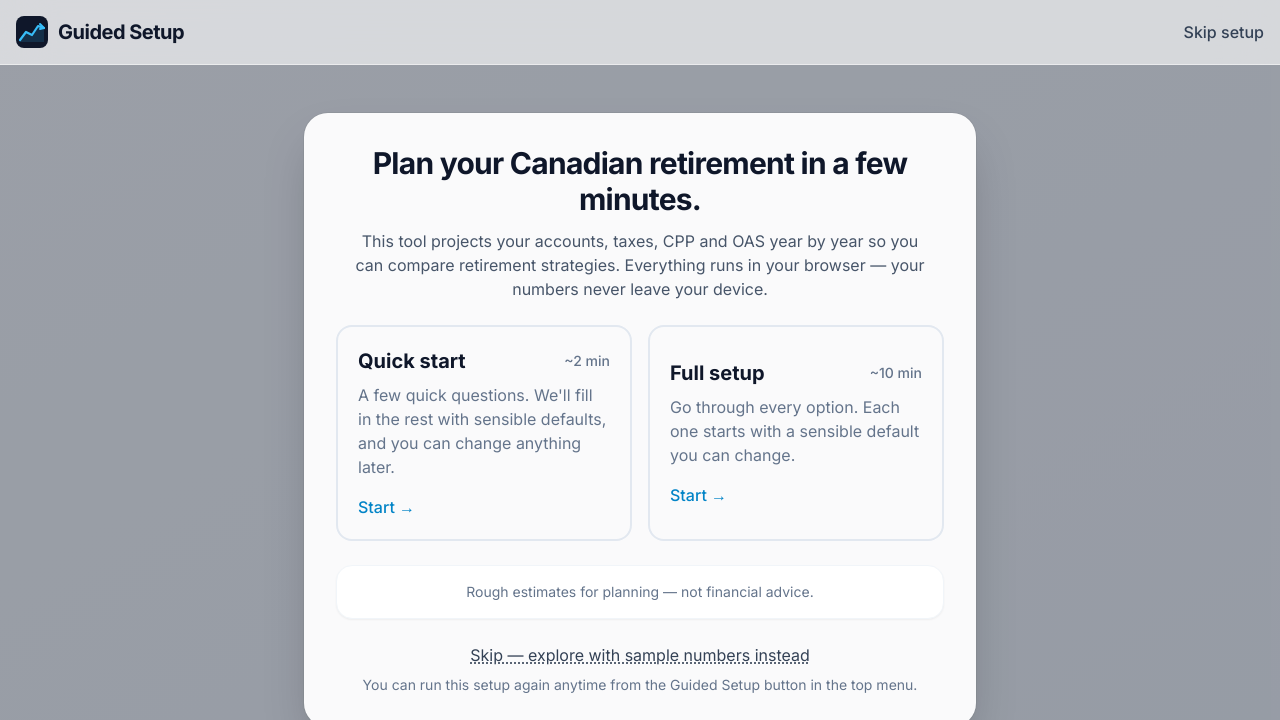
Test: OnboardingFlow › validation gating › detailed path: a broken age blocks Next on the step that owns the field
The image size is (1280, 720).
Click the button "Full setup" at (796, 433), box [648, 325, 944, 541]
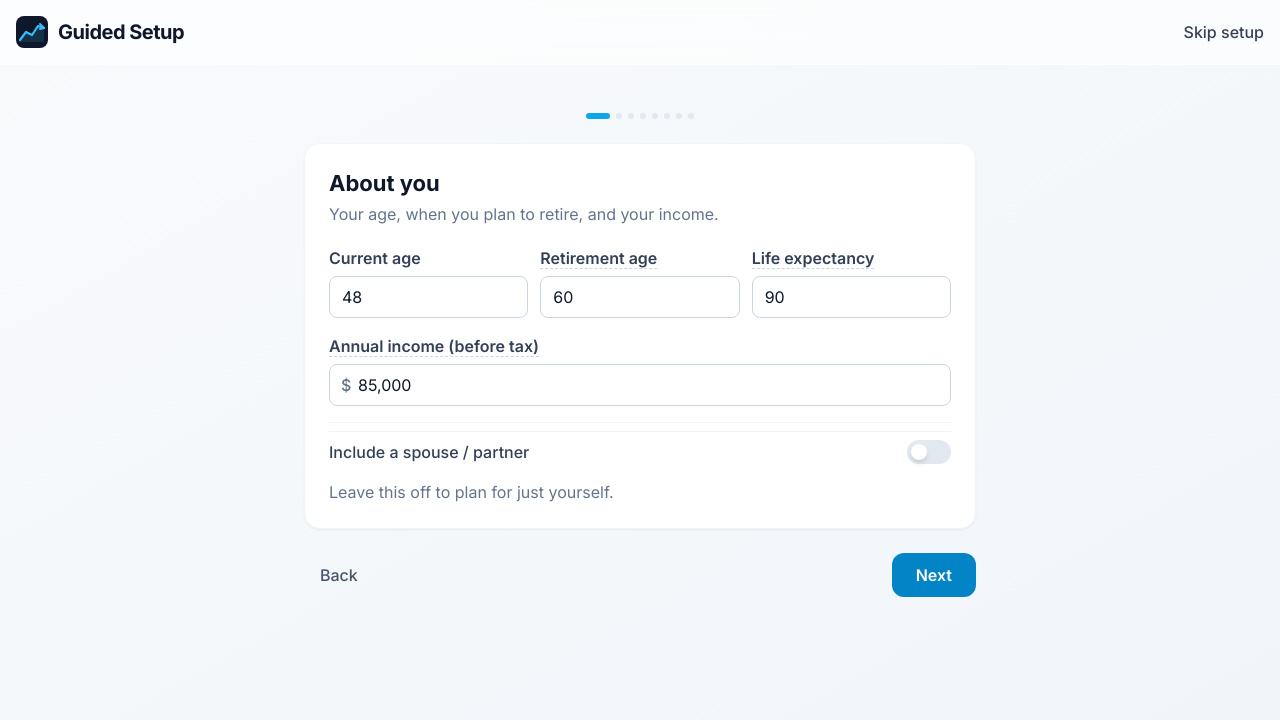
Replace the text in the field below "Life expectancy" with "40" at (851, 297), box [752, 276, 951, 318]
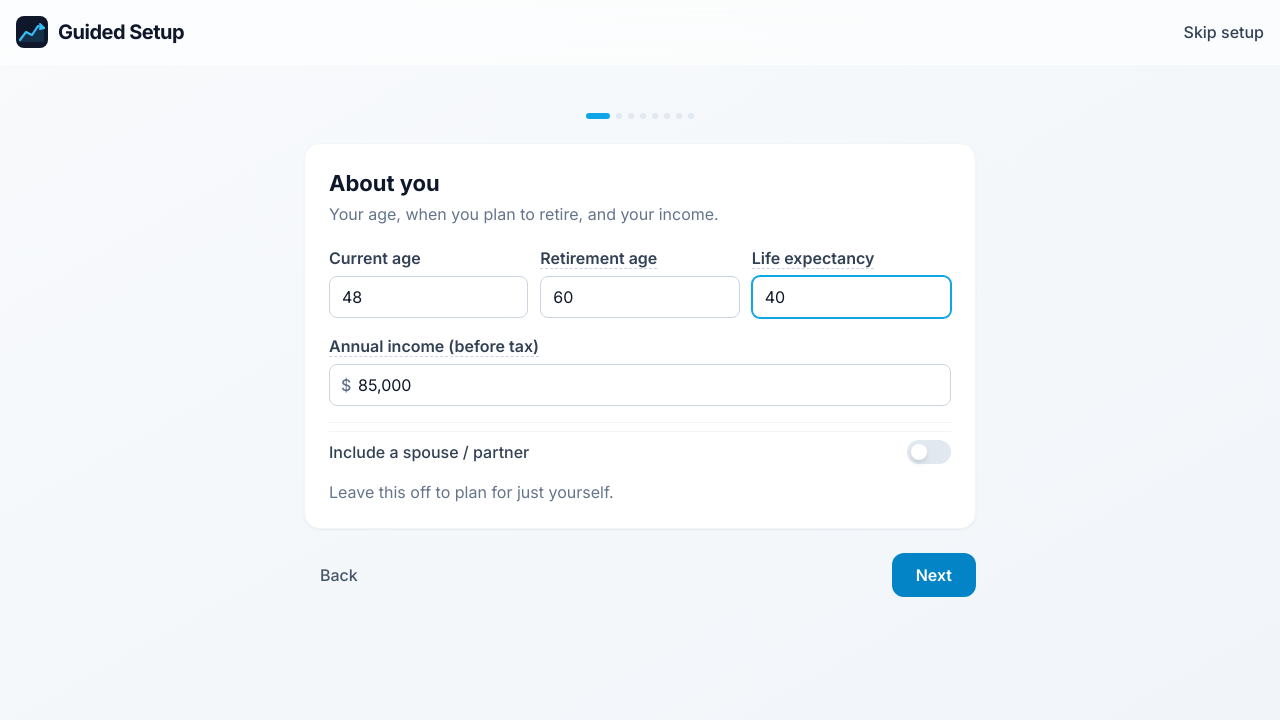
Press Tab
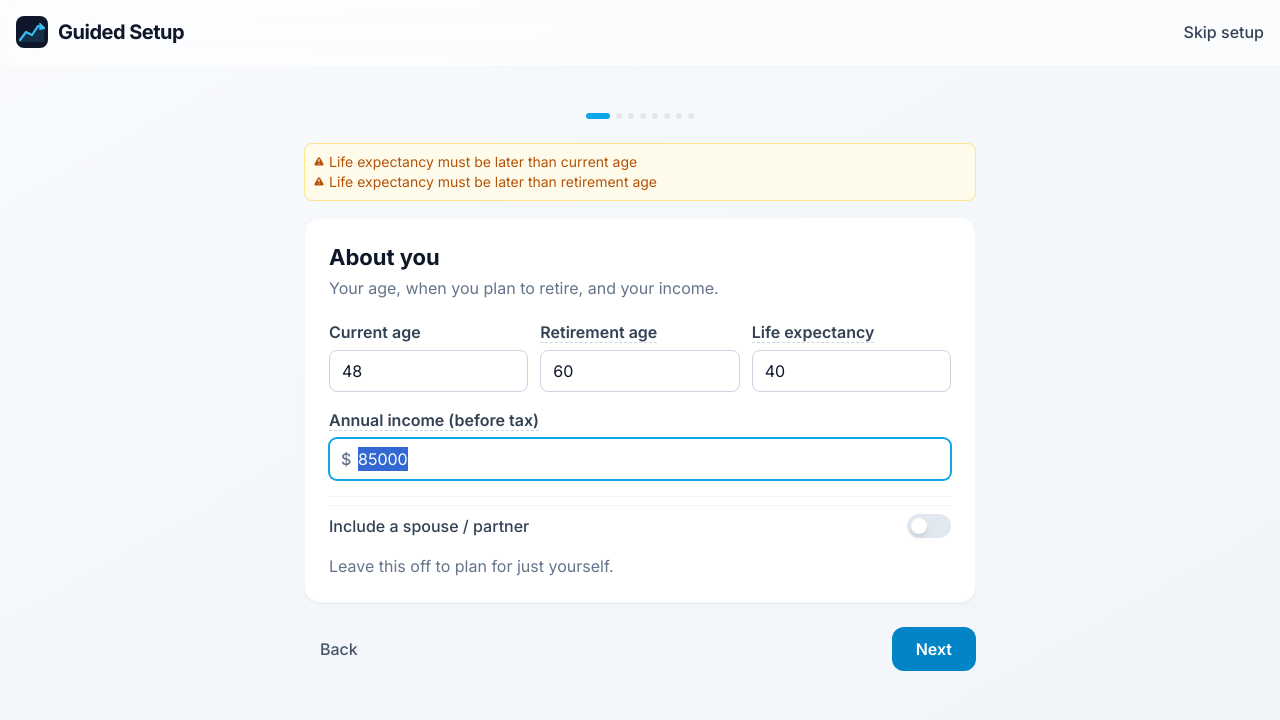
Click the button "Next" at (934, 649), box [892, 627, 976, 671]
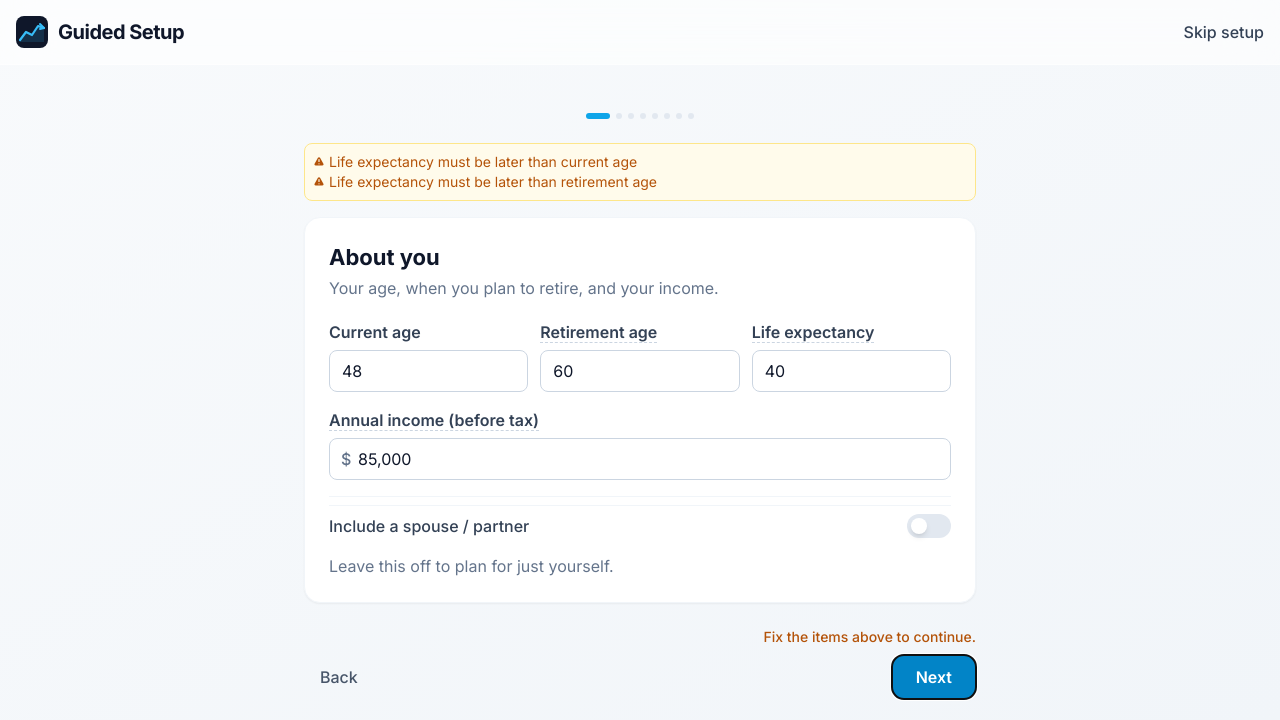
Expected: the heading "About you" is shown, [329, 244, 440, 270]
Expected: the text "Fix the items above to continue." is shown, [764, 628, 976, 645]
